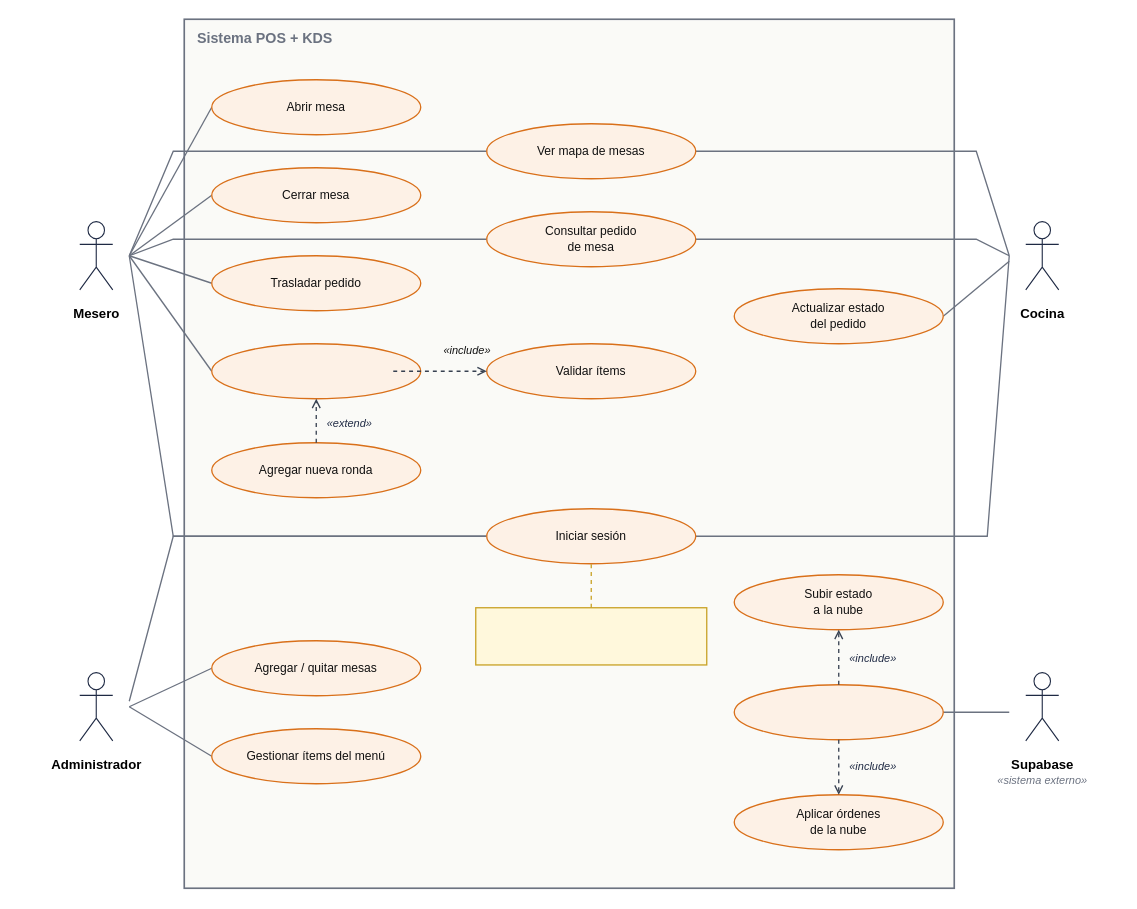
This 1137x909 diagram has some shape labels left out. Each missing label, with the centre of its shape:
"Confirmar pedido (enviar a cocina)" goes at point 316,371.
"Precondición: toda acción de las personas usuarias exige sesión iniciada" goes at point 591,636.
"Sincronizar con la nube" goes at point 838,712.
